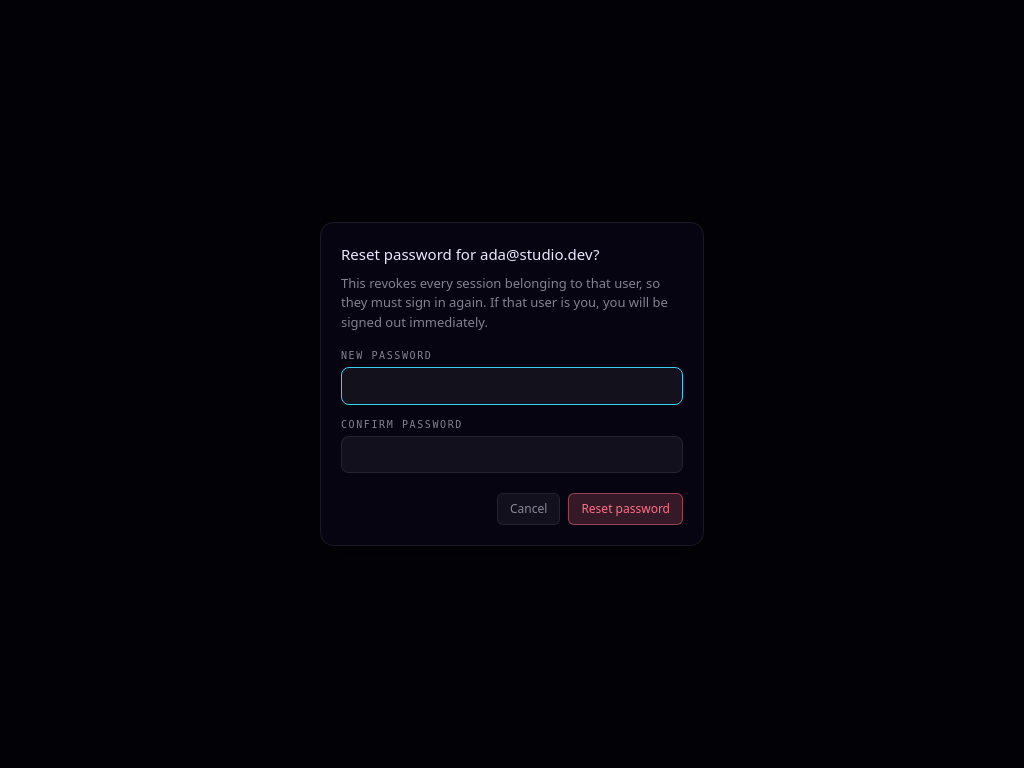
it: rejects a mismatched confirmation without submitting
Type "password1" into the password field labelled "New password" at (512, 386), box [341,367,683,404]
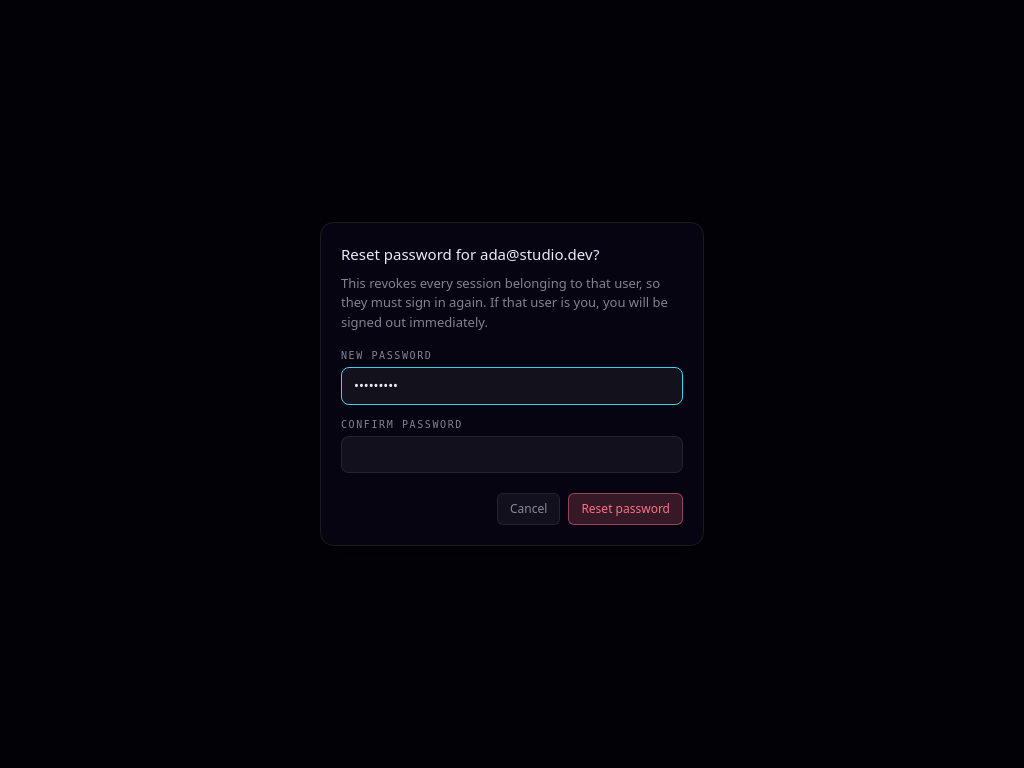
Type "password2" into the password field labelled "Confirm password" at (512, 454), box [341,436,683,473]
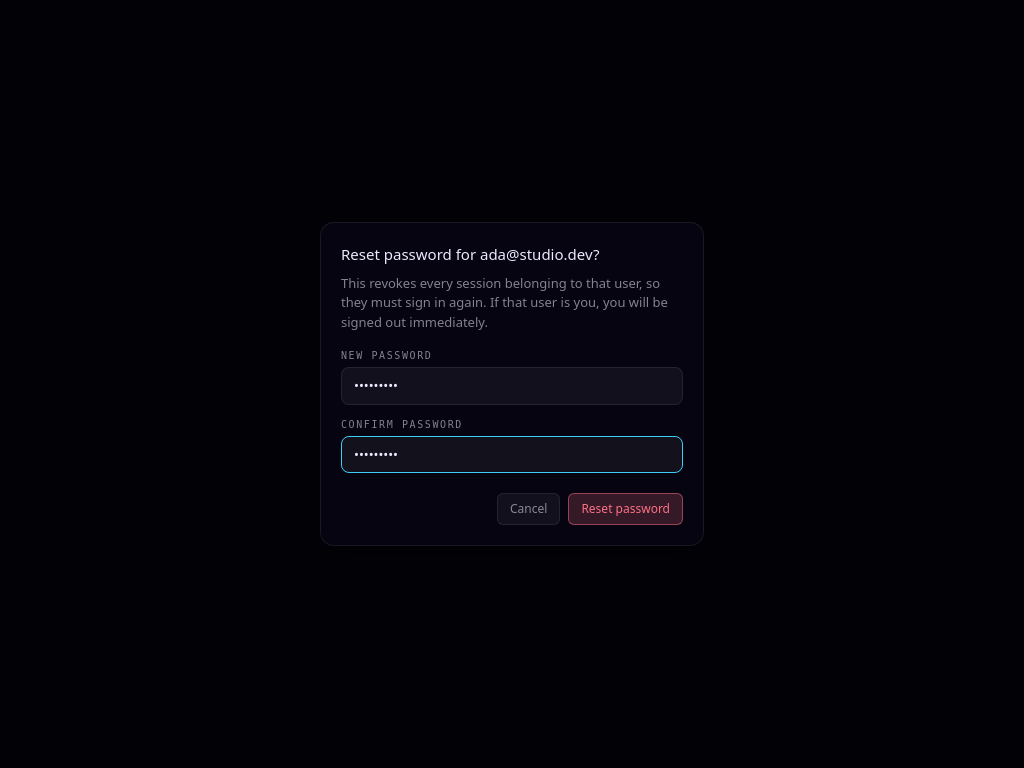
Click the button "Reset password" at (626, 509), box [568,493,683,525]
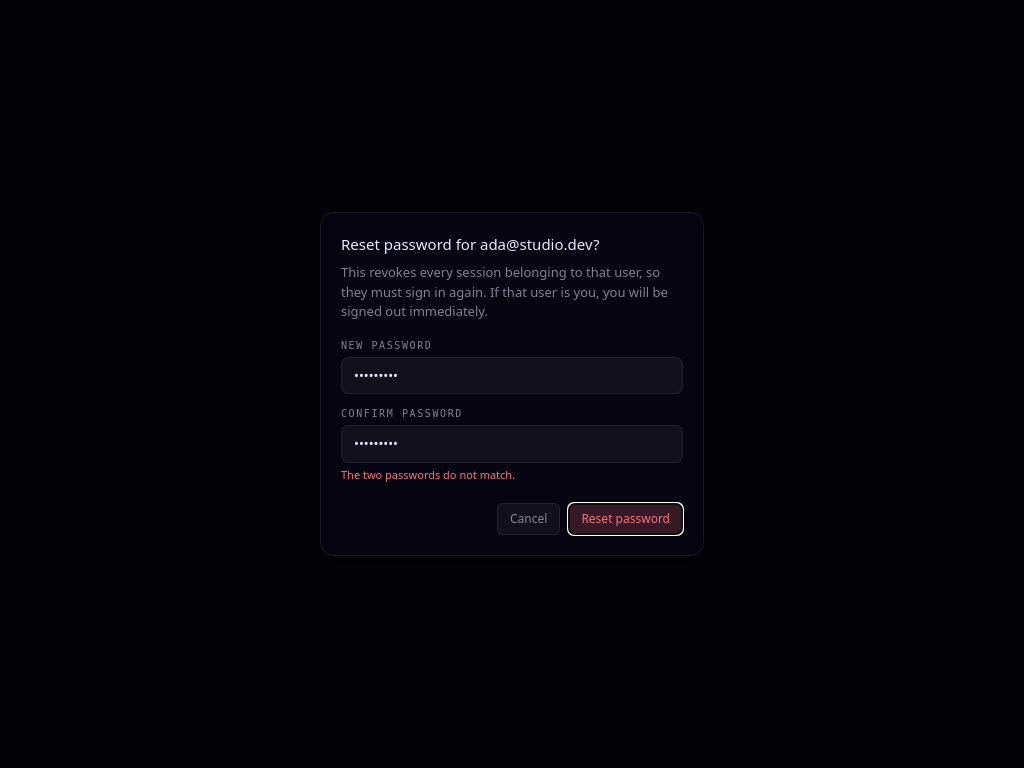
Now the text "The two passwords do not match." is shown, box [341,467,515,482]
